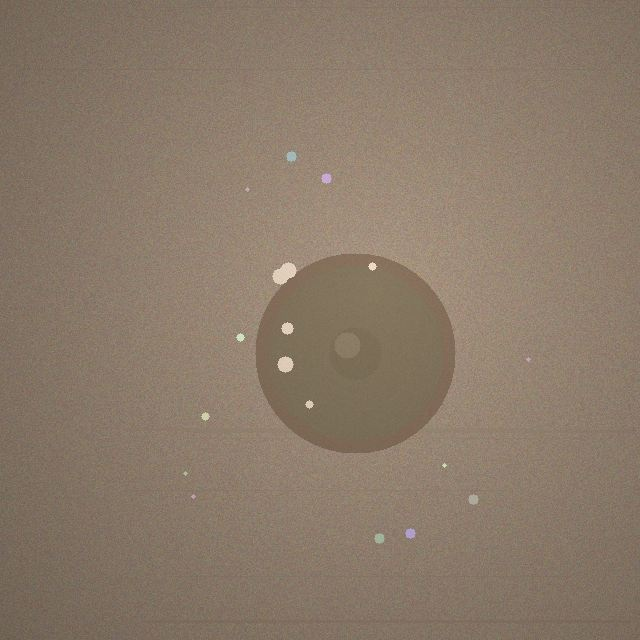overburn: (255, 253, 455, 453)
